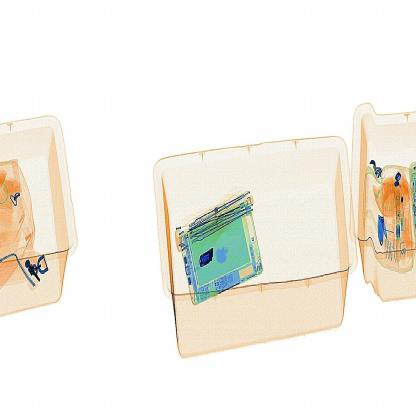knife: (199, 247, 219, 272)
